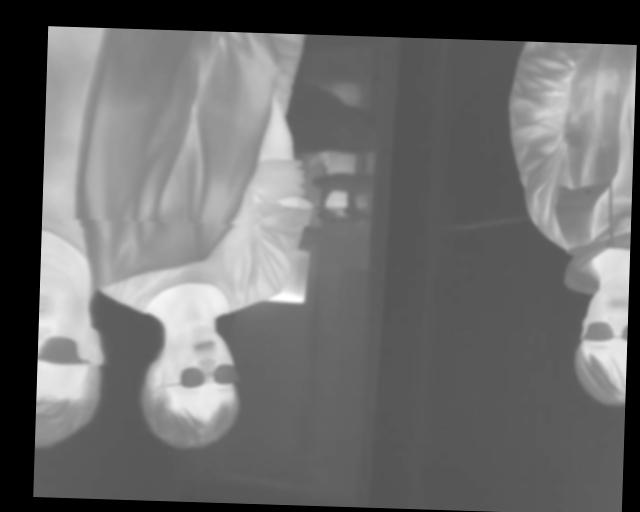face: (139, 327, 244, 454), (574, 284, 628, 407)
